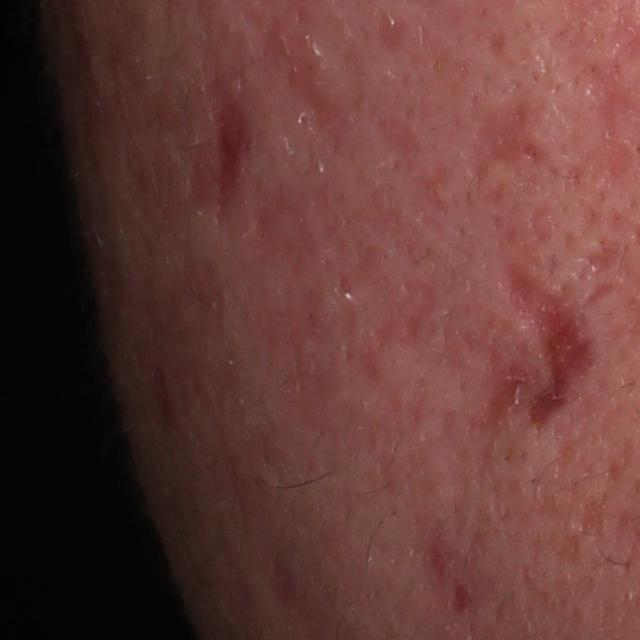atrophic_scar: (186, 64, 269, 241), (504, 264, 591, 429), (466, 88, 558, 193), (578, 232, 626, 281), (449, 579, 470, 613)
